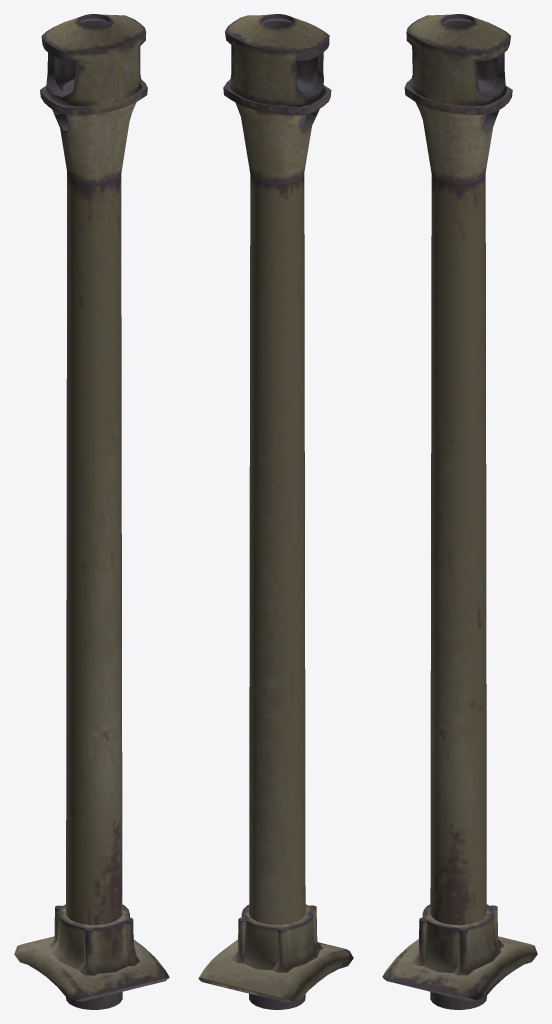
The model's file is Gun_02.glb.
The picture shows the model from 3 angles, left to right: view 1: azimuth 30°, elevation 25°; view 2: azimuth 150°, elevation 25°; view 3: azimuth 330°, elevation 25°; orthographic projection.
Visible parts, largest first — view 1: set_0_group_0; view 2: set_0_group_0; view 3: set_0_group_0.
Boxes of the visible parts, left/top/right/bottom form: set_0_group_0: left=14, top=14, right=169, bottom=1009; set_0_group_0: left=198, top=14, right=353, bottom=1009; set_0_group_0: left=382, top=14, right=537, bottom=1009.
Size of the model in its own units: 0.3274 by 3.15 by 0.4004.
1 material, 1 textured.
